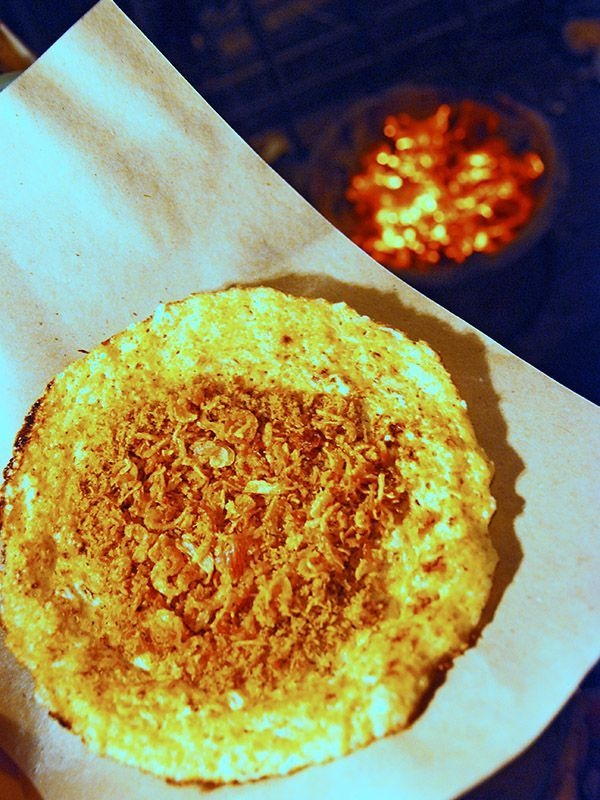kerak_telor: (0, 282, 497, 771)
